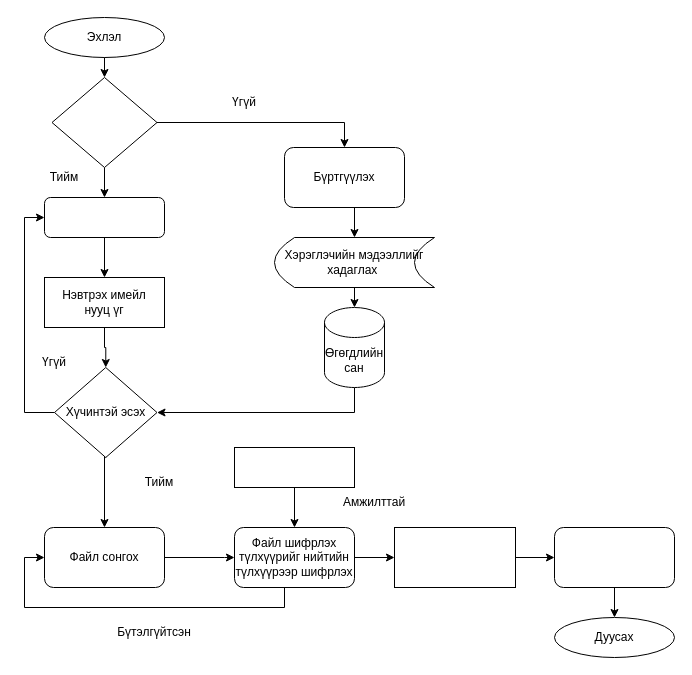
Image size: 692x675. Some labels were removed from this diagram. Here are the shapes that lost their labels. From the top down, the centre of each, then its label:
At (x=104, y=122): "Бүртгэлтэй эсэх".
At (x=104, y=217): "Нэвтрэх".
At (x=294, y=467): "Нийтийн түлхүүр".
At (x=455, y=557): "Шифрлсэн файл хуваалцах хэрэглэч".
At (x=614, y=557): "Файлын түлхүүрийг дахин шифрлэх".
